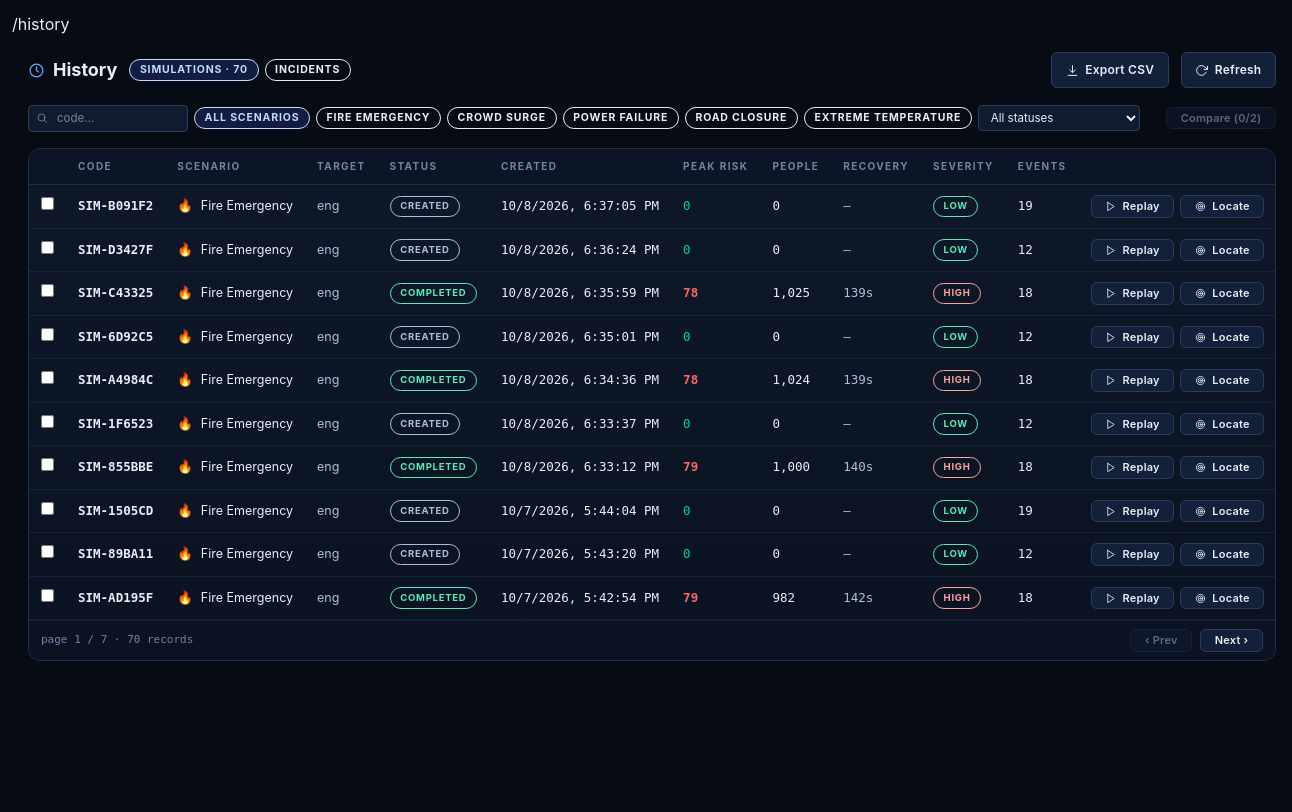
Scenario: History §62 — simulations tab › lists persisted runs with server-side pagination
Expected: the text "SIM-B091F2" is shown, [66,185,165,228]
Click the button with test id "paginate-next" at point(1232, 641), box [1200,629,1263,652]
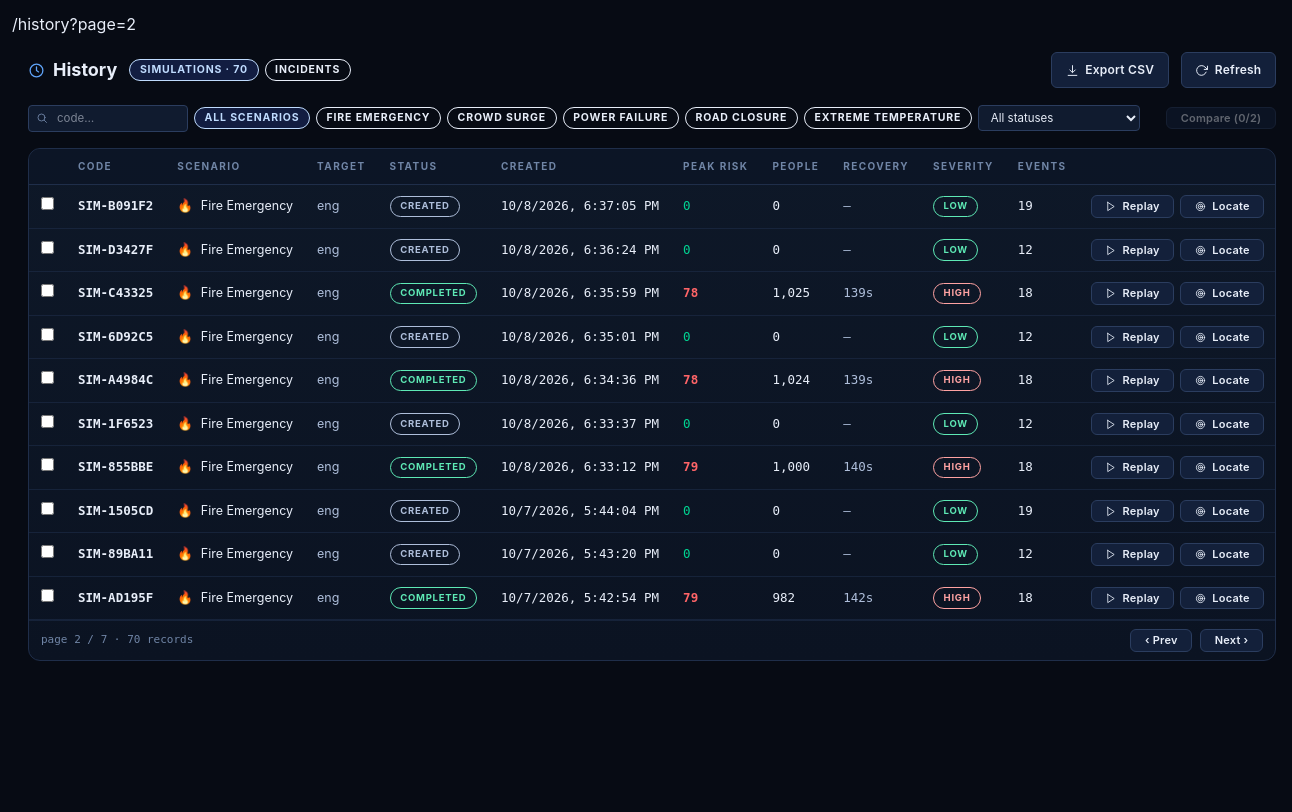
Expected: the text with test id "loc" shows "page=2", [12,14,136,34]
